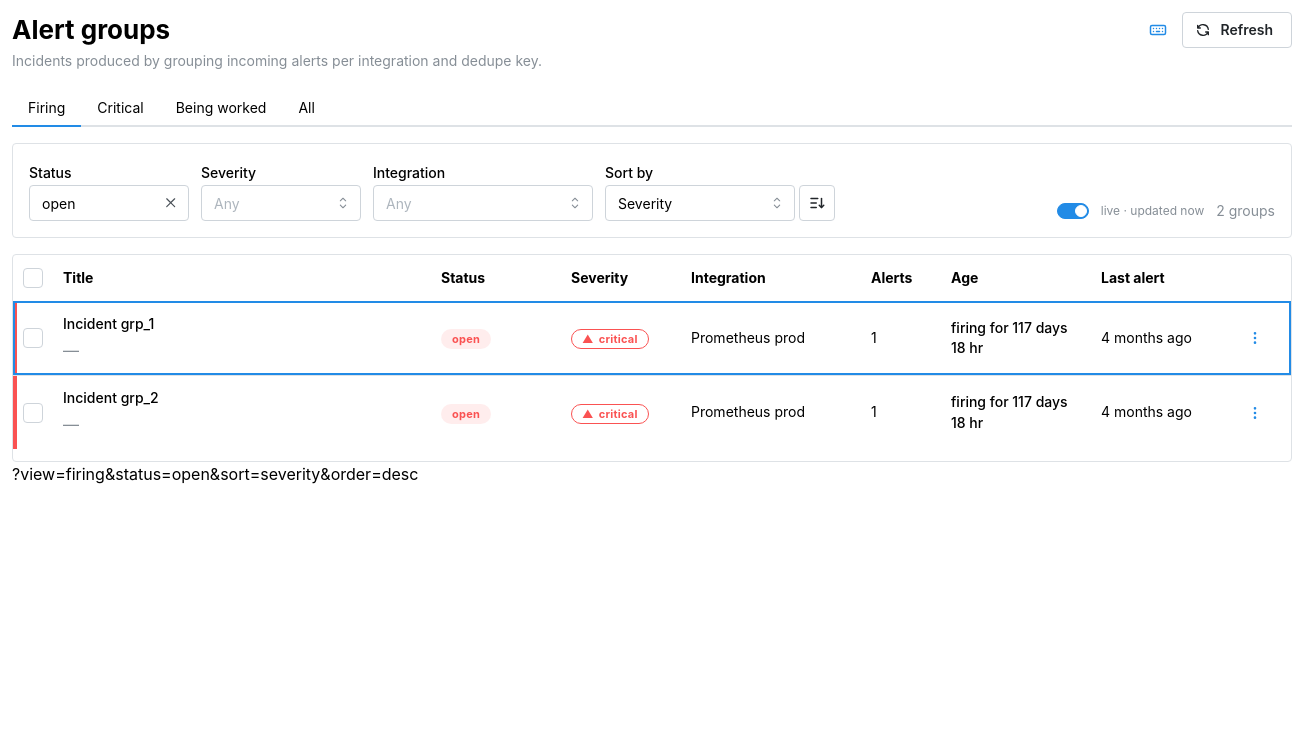
Test: AlertGroupsPage › shows no bulk actions at all until something is selected
Check: the link "Incident grp_1" is shown, box [63,315,154,332]
Check: the button "Acknowledge" is not shown
Click the checkbox named "Select grp_1" at [33, 338], box [23,328,43,348]
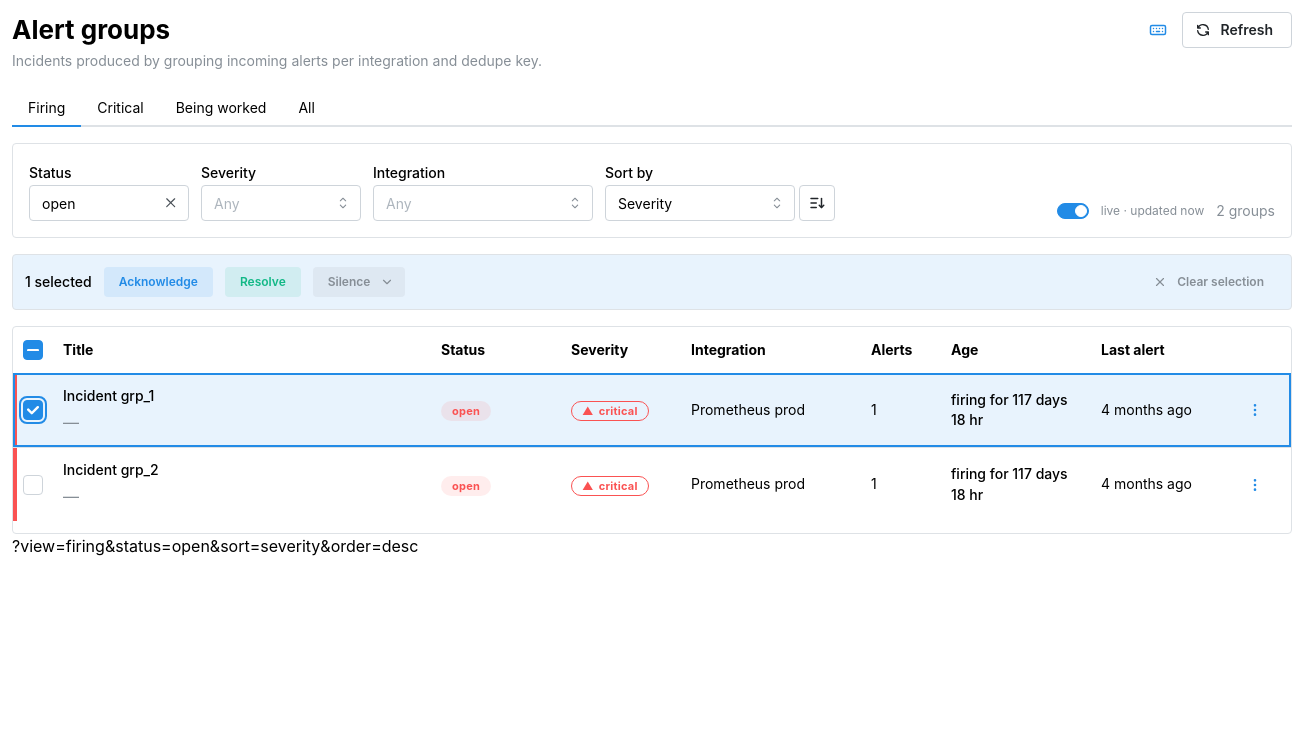
Check: the button "Acknowledge" is enabled, box [104,267,213,297]
